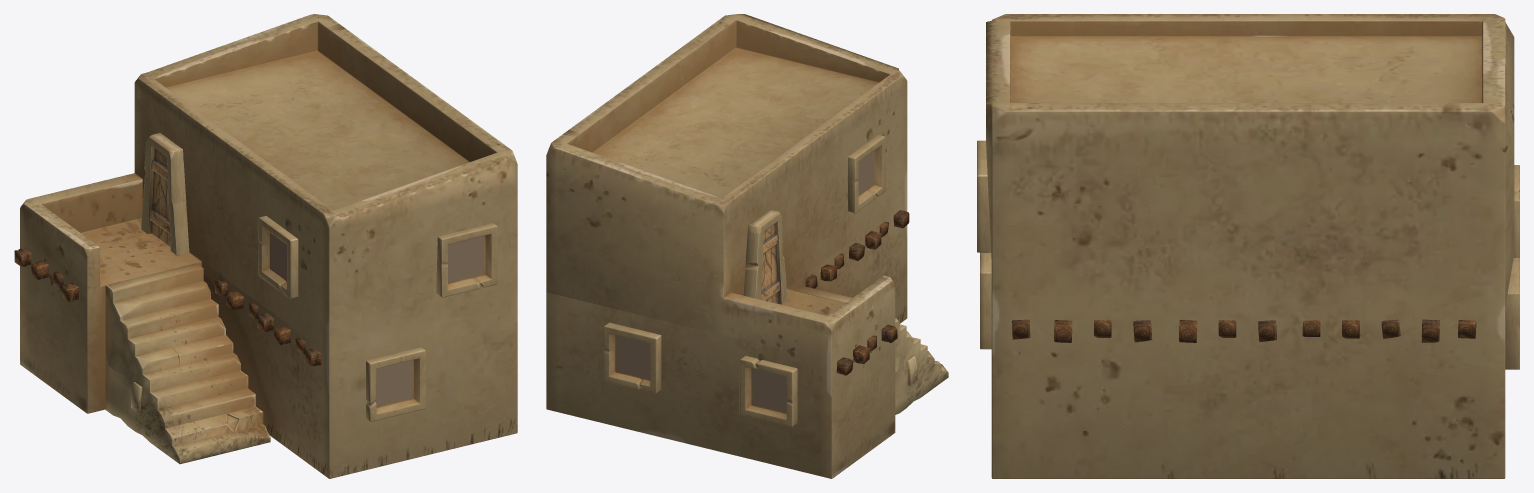
Rendered from desert_house.glb.
3 renders of one model, left to right at view 1: azimuth 30°, elevation 25°; view 2: azimuth 150°, elevation 25°; view 3: azimuth 270°, elevation 25°, orthographic. The views are drawn at different scales.
Parts seen in each view (by area): view 1: upper, walls; view 2: upper, walls; view 3: upper, walls.
Part boxes in pixels (bbox=[...]): upper: bbox=[20, 14, 517, 354]; walls: bbox=[14, 133, 517, 478]; upper: bbox=[546, 14, 907, 361]; walls: bbox=[546, 201, 948, 478]; upper: bbox=[977, 14, 1514, 314]; walls: bbox=[980, 165, 1519, 478].
Size of the model in its own units: 7.21 by 5.92 by 7.91.
7 materials, 6 textured.
